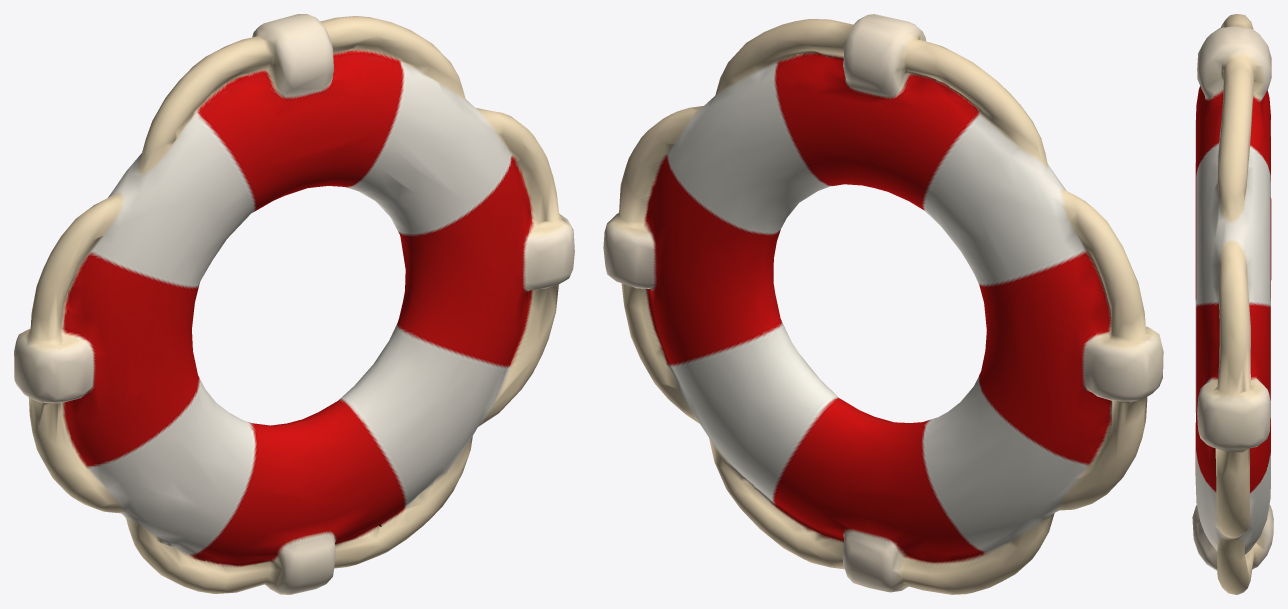
File: Item_Lifebuoy.fbx
3 views of the same model, side by side, from view 1: azimuth 30°, elevation 25°; view 2: azimuth 150°, elevation 25°; view 3: azimuth 270°, elevation 25° (orthographic). The views are drawn at different scales.
Parts seen in each view (by area): view 1: Item_Lifebuoy; view 2: Item_Lifebuoy; view 3: Item_Lifebuoy.
Boxes of the visible parts, x1=… form: Item_Lifebuoy: x1=14, y1=14, x2=574, y2=594; Item_Lifebuoy: x1=603, y1=14, x2=1163, y2=594; Item_Lifebuoy: x1=1192, y1=14, x2=1273, y2=594.
Size of the model in its own units: 3.6 by 3.56 by 0.4941.
1 material, 1 textured.
